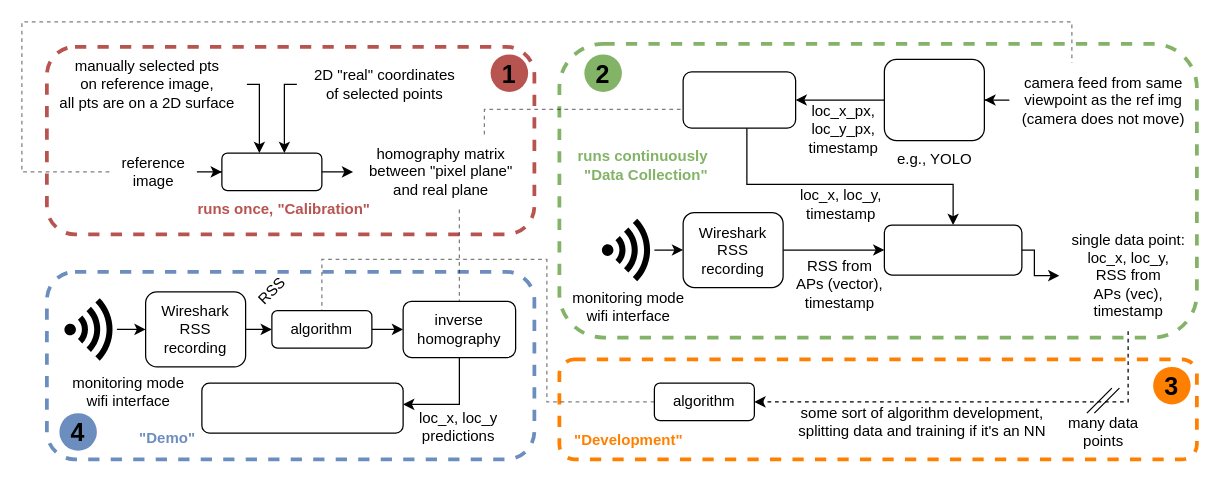
The diagram is 1220 pixels wide and 483 high, and some of its shapes have lost their labels. The centre of each missing label's shape, as x and y in pixels:
forward homography: (739,99)
GUI visualization (overlay preds on refimg): (302,407)
merge based on timestamps: (952,249)
person detection and tracking algorithm: (933,99)
PnP algorithm: (271,171)
